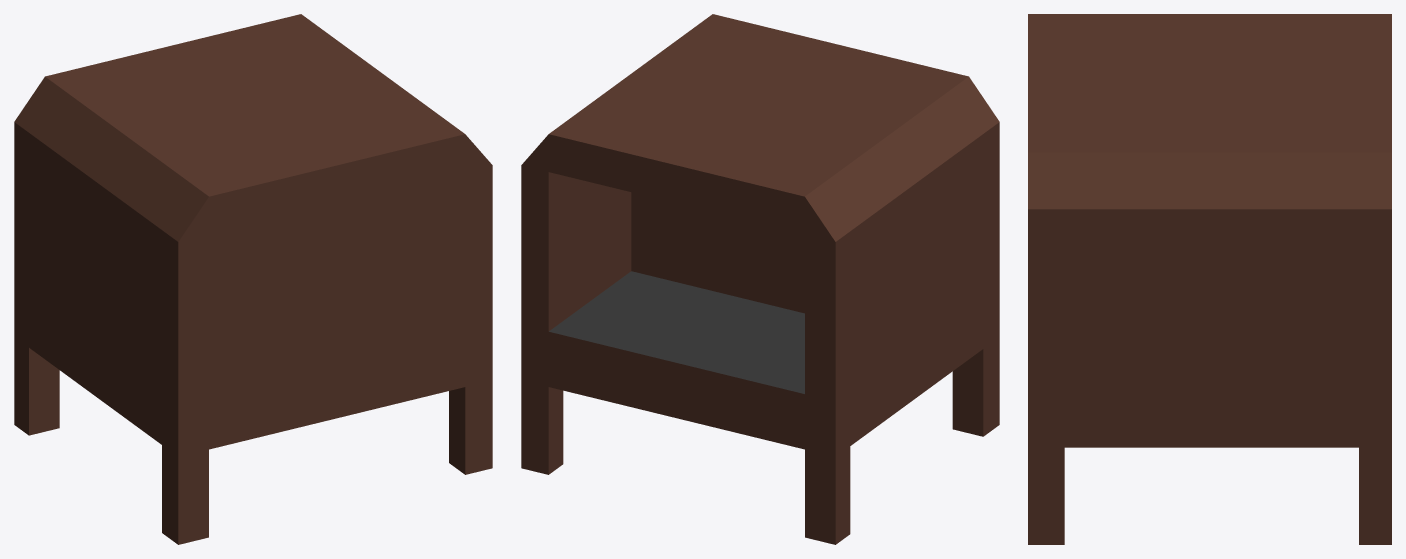
The model's file is abbaumaschine_stufe1.fbx.
3 renders of one model, left to right at view 1: azimuth 30°, elevation 25°; view 2: azimuth 150°, elevation 25°; view 3: azimuth 270°, elevation 25°, orthographic. The views are drawn at different scales.
Visible parts, largest first — view 1: abbaumaschine_stufe1; view 2: abbaumaschine_stufe1; view 3: abbaumaschine_stufe1.
Part boxes in pixels (x1=…): abbaumaschine_stufe1: x1=14, y1=14, x2=492, y2=544; abbaumaschine_stufe1: x1=521, y1=14, x2=999, y2=544; abbaumaschine_stufe1: x1=1028, y1=14, x2=1391, y2=544.
Size of the model in its own units: 130 by 135 by 118.
